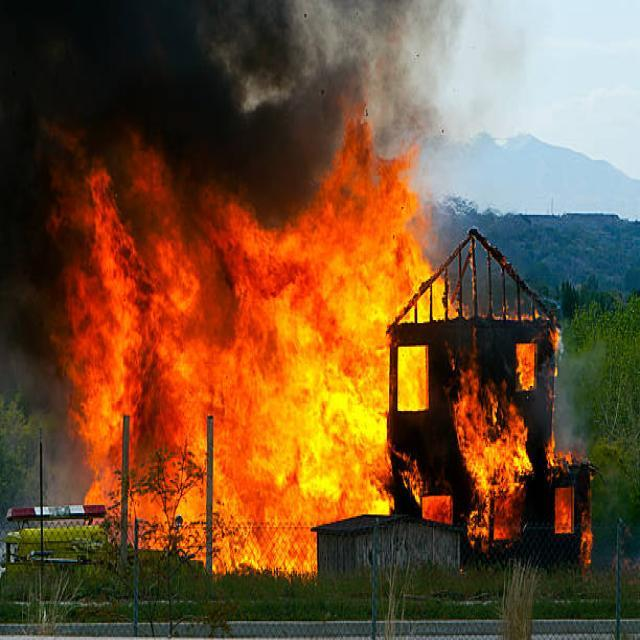Fire: (61, 133, 538, 552)
Smoke: (0, 2, 366, 288), (364, 0, 461, 153), (0, 278, 60, 408)
